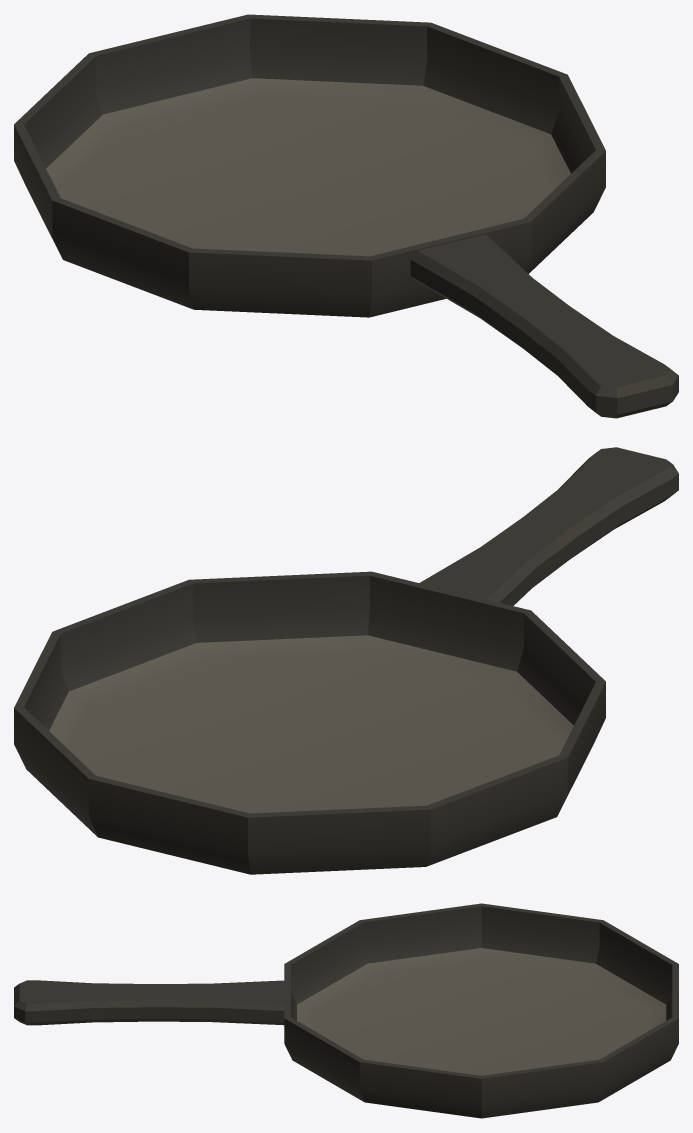
File: PW_pan.fbx
3 renders of one model, top to bottom at view 1: azimuth 30°, elevation 25°; view 2: azimuth 150°, elevation 25°; view 3: azimuth 270°, elevation 25°, orthographic. The views are drawn at different scales.
Parts seen in each view (by area): view 1: pan; view 2: pan; view 3: pan.
Part boxes in pixels (x1,y1,x2,y2): pan: (14, 14, 678, 418); pan: (14, 447, 678, 874); pan: (14, 903, 678, 1118).
Size of the model in its own units: 52.05 by 7.03 by 83.4.
1 material, 1 textured.
